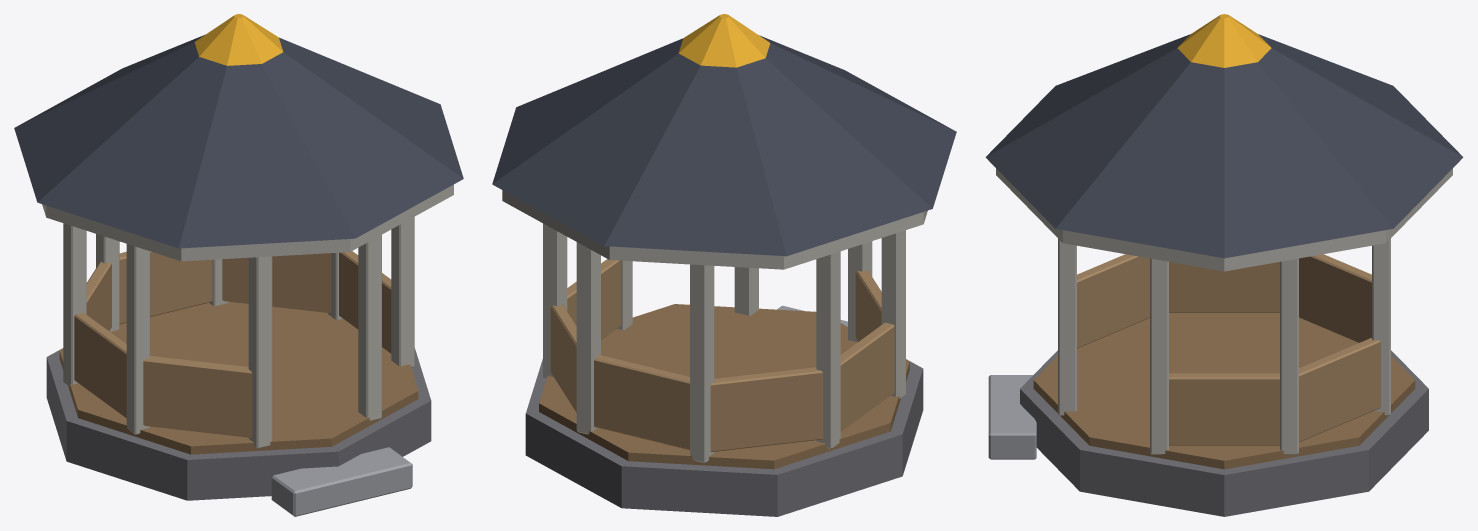
Rendered from Stylized_Landmark_ParkGazebo.fbx.
The picture shows the model from 3 angles, left to right: view 1: azimuth 30°, elevation 25°; view 2: azimuth 150°, elevation 25°; view 3: azimuth 270°, elevation 25°; orthographic projection. The views are drawn at different scales.
Visible parts, largest first — view 1: Stylized_Landmark_ParkGazebo; view 2: Stylized_Landmark_ParkGazebo; view 3: Stylized_Landmark_ParkGazebo.
Part boxes in pixels (left/top/right/bottom): Stylized_Landmark_ParkGazebo: left=14, top=14, right=463, bottom=516; Stylized_Landmark_ParkGazebo: left=492, top=14, right=956, bottom=516; Stylized_Landmark_ParkGazebo: left=985, top=14, right=1463, bottom=516.
Size of the model in its own units: 4.56 by 4.36 by 4.56.
